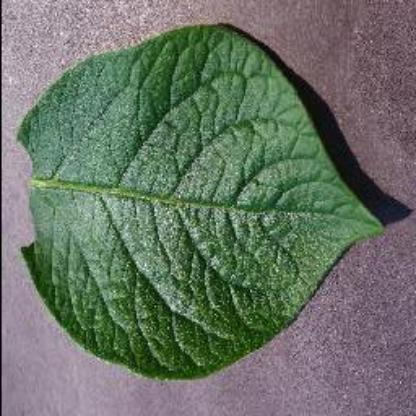Healthy-plant: (16, 20, 390, 384)
